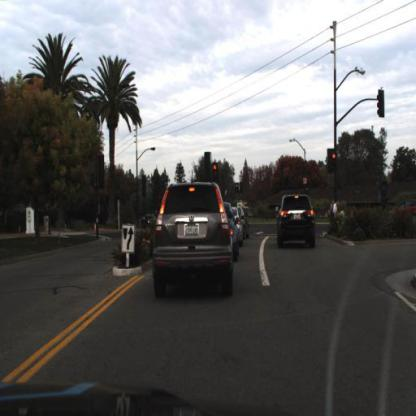car: (154, 182, 235, 299), (274, 194, 318, 250), (386, 197, 416, 228)
pedestrian: (330, 198, 340, 234), (331, 200, 338, 226)
trafficLight-Red: (212, 164, 220, 180), (213, 163, 218, 185), (332, 151, 337, 171)
